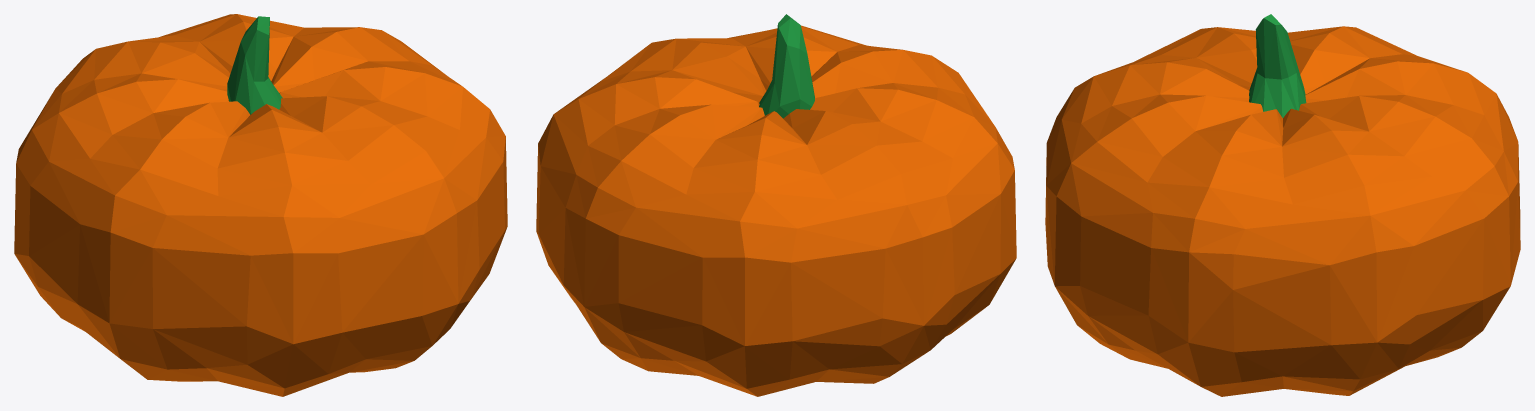
File: Pumpkin_0.fbx
3 renders of one model, left to right at view 1: azimuth 30°, elevation 25°; view 2: azimuth 150°, elevation 25°; view 3: azimuth 270°, elevation 25°, orthographic. The views are drawn at different scales.
Parts seen in each view (by area): view 1: Cylinder.009; view 2: Cylinder.009; view 3: Cylinder.009.
Part boxes in pixels (x1,y1,x2,y2): Cylinder.009: (14, 14, 507, 396); Cylinder.009: (536, 14, 1016, 396); Cylinder.009: (1045, 14, 1520, 396).
Bounding box in the file's own units: 578 × 441 × 579.
